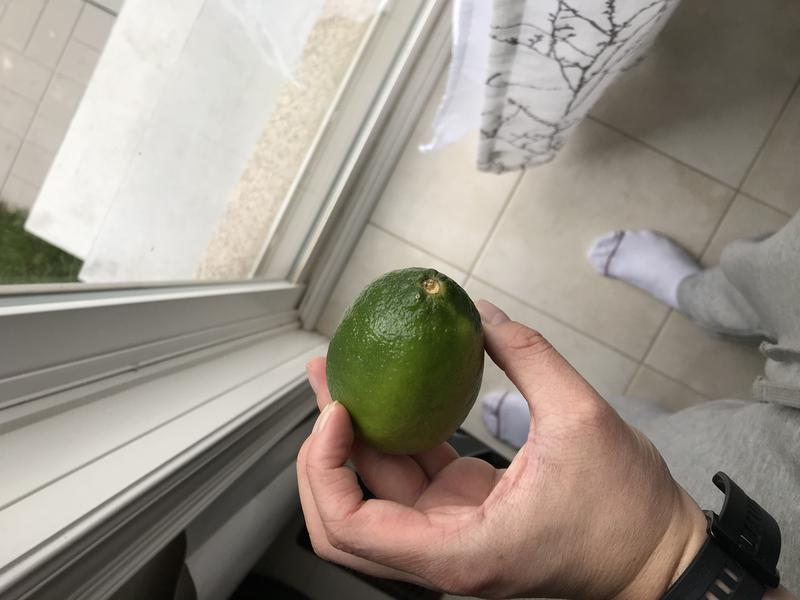lime: (319, 253, 492, 468)
